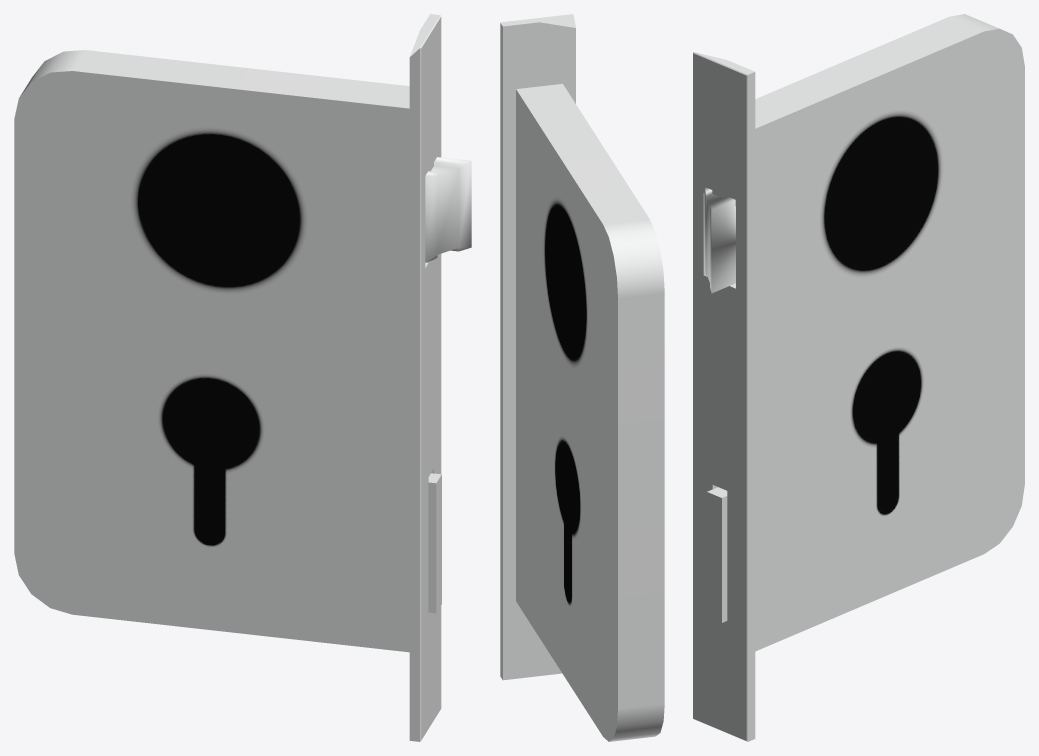
Rendered from suo.fbx.
3 renders of one model, left to right at view 1: azimuth 30°, elevation 25°; view 2: azimuth 150°, elevation 25°; view 3: azimuth 270°, elevation 25°, orthographic. The views are drawn at different scales.
Visible parts, largest first — view 1: SX:pCube3; view 2: SX:pCube3; view 3: SX:pCube3.
Boxes of the visible parts, x1,y1,x2,y2 form: SX:pCube3: (14, 14, 471, 741); SX:pCube3: (500, 14, 664, 741); SX:pCube3: (693, 14, 1024, 741).
Size of the model in its own units: 11.71 by 24.85 by 11.2.
Materials: 1 (1 with a texture image).
